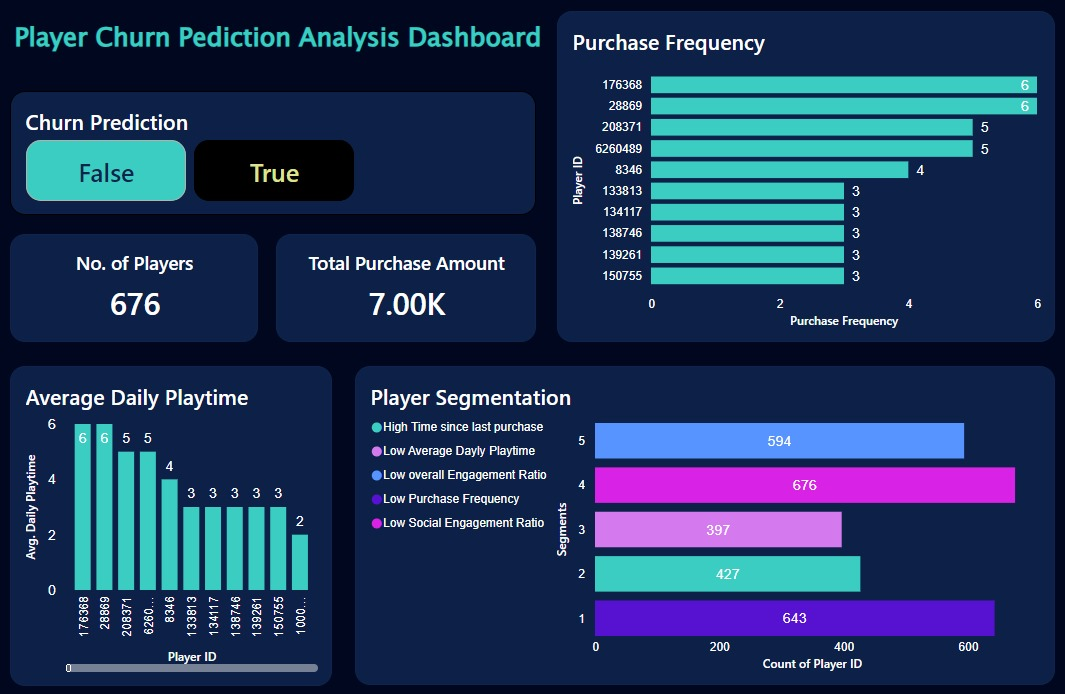

Layout of this report page (visuals, bound fields, positions):
{"tool":"powerbi","page":{"name":"Page 1","canvas":[1280,720],"ordinal":0},"visuals":[{"type":"card","title":"Total Purchase Amount","fields":{"Values":["Sum(player churn final dataset csv.Purchase Amount)"]},"box":[375,252,260,108],"z":0},{"type":"card","title":"No. of Players","fields":{"Values":["CountNonNull(player churn final dataset csv.Player ID)"]},"box":[109,252,248,108],"z":1000},{"type":"advancedSlicerVisual","fields":{"Values":["player churn final dataset csv.Churn Prediction"]},"box":[109,109,526,124],"z":2000},{"type":"columnChart","title":"Average Daily Playtime","fields":{"Category":["player churn final dataset csv.Player ID"],"Y":["CountNonNull(player churn final dataset csv.Average Daily Playtime)"]},"box":[109,384,322,320],"z":3000},{"type":"barChart","title":"Player Segmentation","fields":{"Y":["CountNonNull(player churn final dataset csv.Player ID)"],"Category":["Segments.Segments"],"Series":["Segments.Criteria"]},"box":[454,384,700,319],"z":4000},{"type":"barChart","title":"Purchase Frequency","fields":{"Category":["player churn final dataset csv.Player ID"],"Y":["CountNonNull(player churn final dataset csv.Purchase Frequency)"]},"box":[656,29,498,331],"z":5000},{"type":"textbox","title":"Player Churn Pediction Analysis Dashboard","box":[109,36,573,71],"z":6000}]}

Visuals, with their boxes on the page's 1280x720 design canvas (x1, y1, x2, y2). These are canvas units, not pixel positions in the 1065x694 screenshot, which may show the page scaled, cropped or inside an application window:
"Total Purchase Amount" card: rect(375, 252, 635, 360)
"No. of Players" card: rect(109, 252, 357, 360)
advancedSlicerVisual - player churn final dataset csv.Churn Prediction: rect(109, 109, 635, 233)
"Average Daily Playtime" columnChart: rect(109, 384, 431, 704)
"Player Segmentation" barChart: rect(454, 384, 1154, 703)
"Purchase Frequency" barChart: rect(656, 29, 1154, 360)
"Player Churn Pediction Analysis Dashboard" textbox: rect(109, 36, 682, 107)
